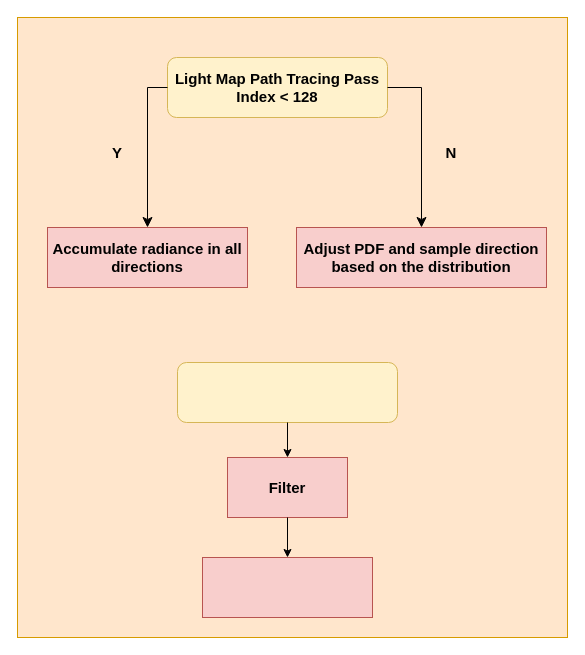
Some shapes in this 585 by 655 pixel diagram are drawn without their labels. The centre of each missing label's shape, as x and y in pixels:
"Build ray guiding distribution" goes at [287,587].
"Light Map Path Tracing Pass Index == 128" goes at [287,392].
